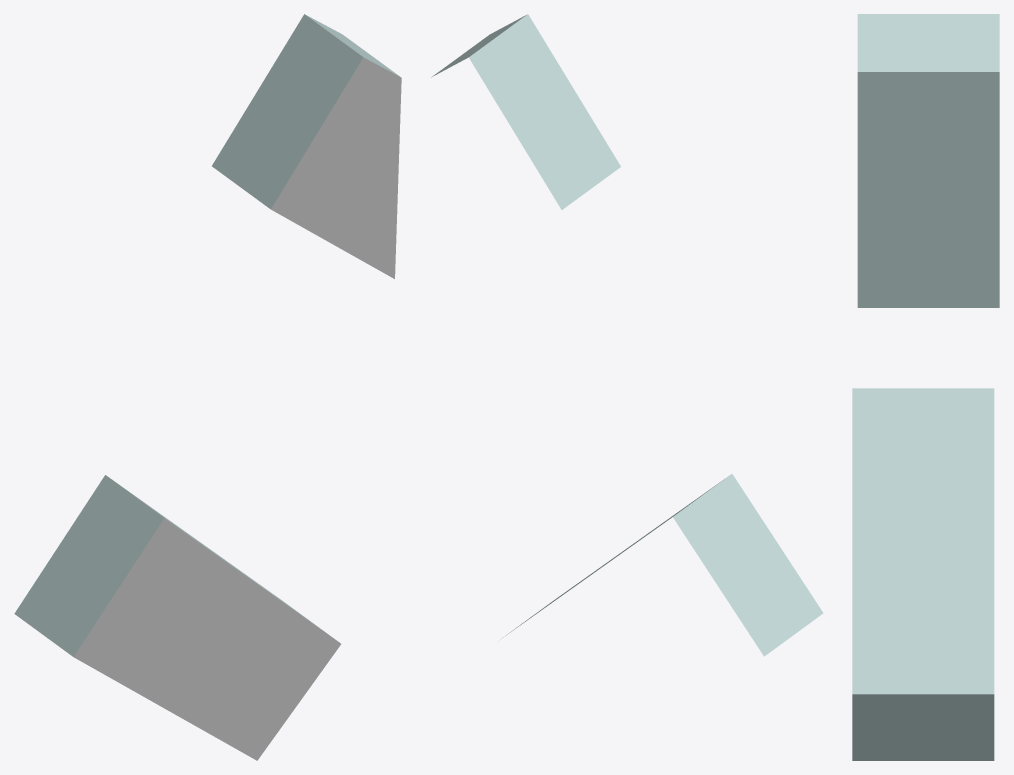
3 views of the same model, side by side, from view 1: azimuth 30°, elevation 25°; view 2: azimuth 150°, elevation 25°; view 3: azimuth 270°, elevation 25° (orthographic). The views are drawn at different scales.
Parts seen in each view (by area): view 1: 0_2_2_3_3_3_3_2_3; view 2: 0_2_2_3_3_3_3_2_3; view 3: 0_2_2_3_3_3_3_2_3.
Boxes of the visible parts, bbox=[...] form: 0_2_2_3_3_3_3_2_3: bbox=[14, 14, 401, 760]; 0_2_2_3_3_3_3_2_3: bbox=[431, 14, 823, 656]; 0_2_2_3_3_3_3_2_3: bbox=[852, 14, 999, 760].
Bounding box in the file's own units: 9.66 × 18.89 × 3.11.
